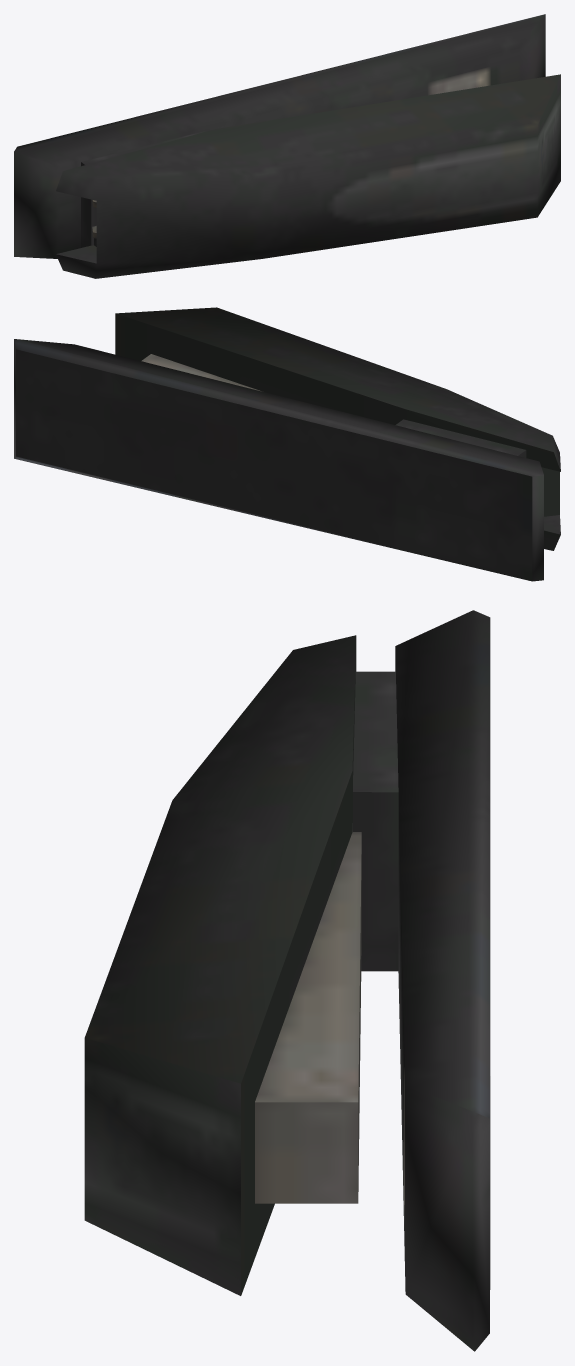
File: p_rus_stapler_LOD1.obj
3 renders of one model, top to bottom at view 1: azimuth 30°, elevation 25°; view 2: azimuth 150°, elevation 25°; view 3: azimuth 270°, elevation 25°, orthographic. The views are drawn at different scales.
Parts seen in each view (by area): view 1: mtl_p_rus_stapler; view 2: mtl_p_rus_stapler; view 3: mtl_p_rus_stapler.
Part boxes in pixels (x1,y1,x2,y2): mtl_p_rus_stapler: (14,14,560,278); mtl_p_rus_stapler: (14,307,560,581); mtl_p_rus_stapler: (84,610,490,1351).
Size of the model in its own units: 19.9 by 4.3 by 6.6.
